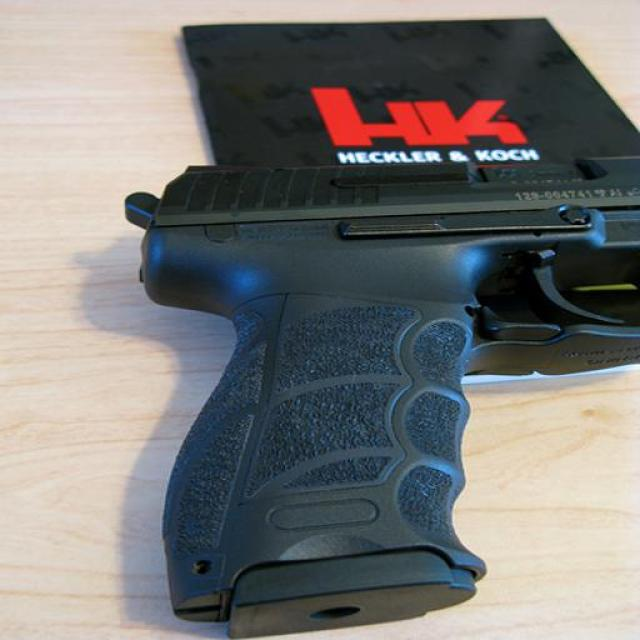pistol: (122, 154, 640, 623)
